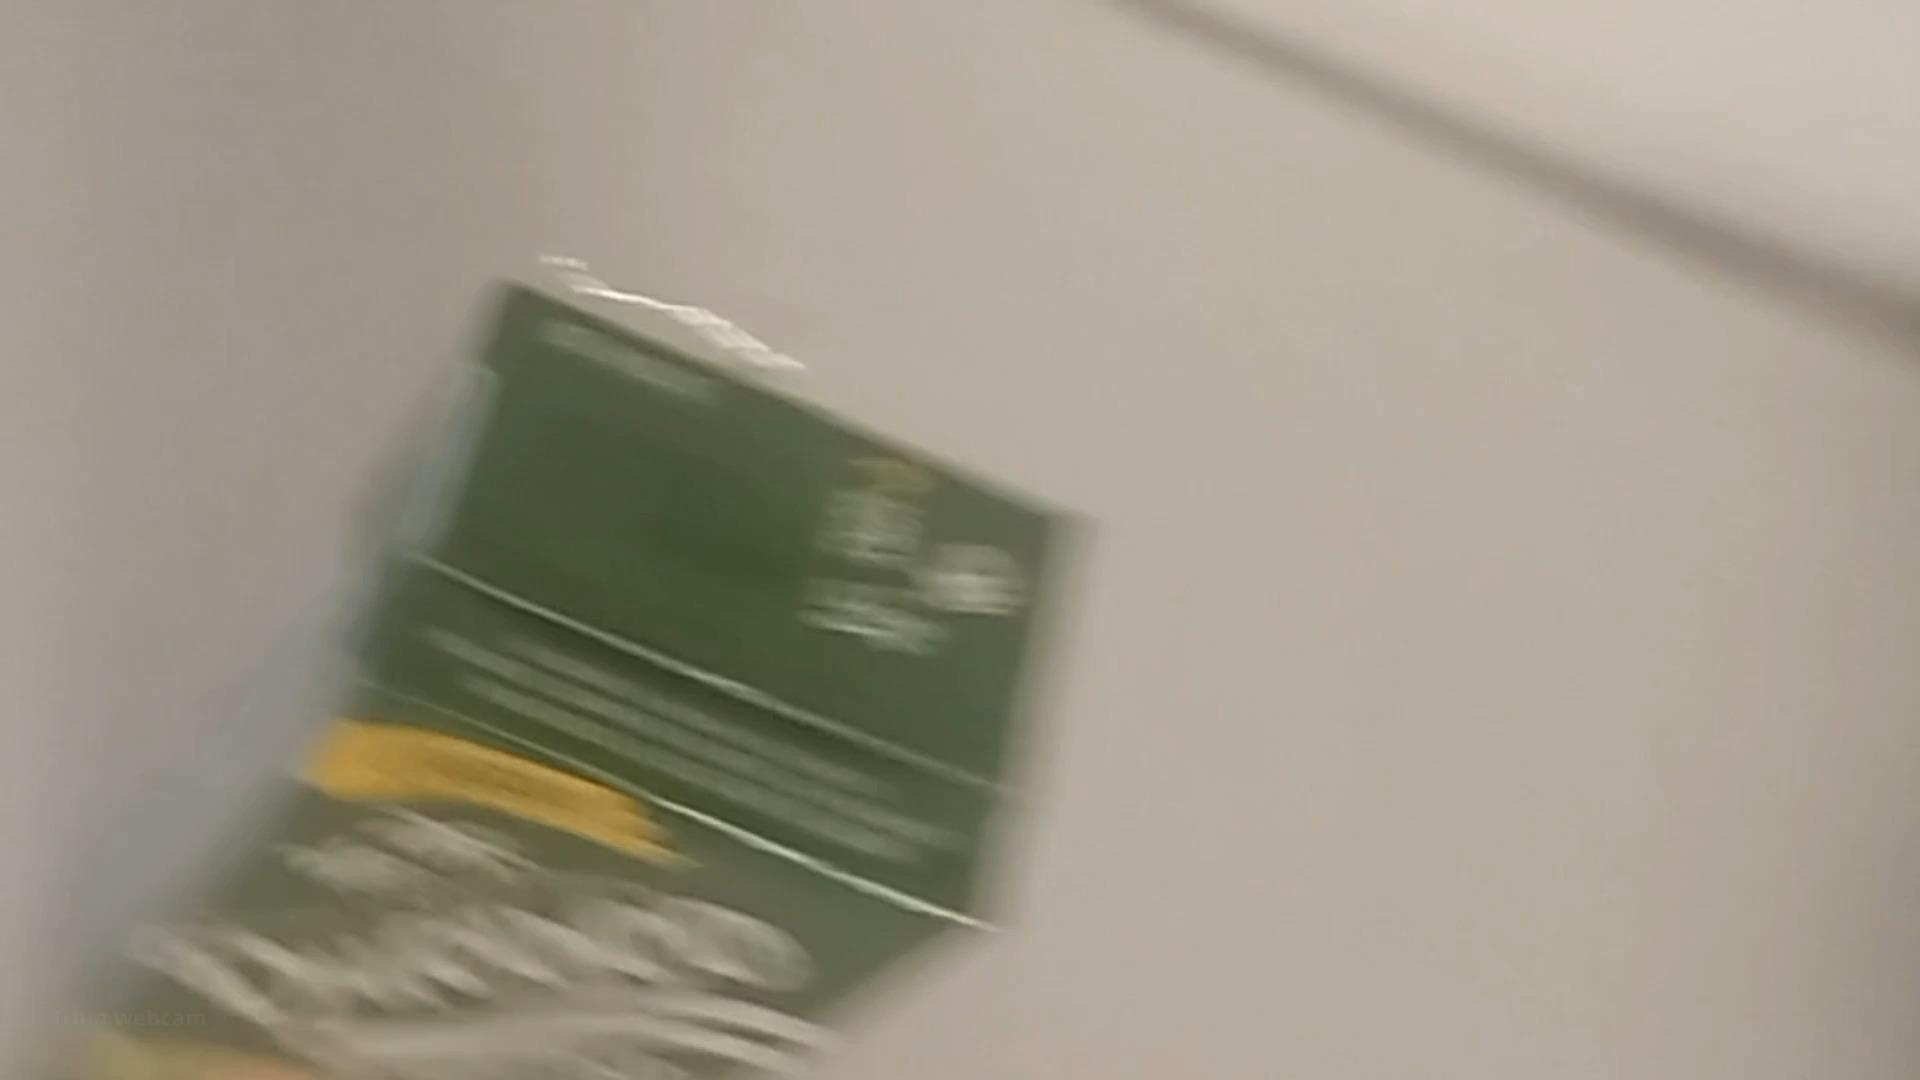coco: (108, 270, 1075, 1080)
